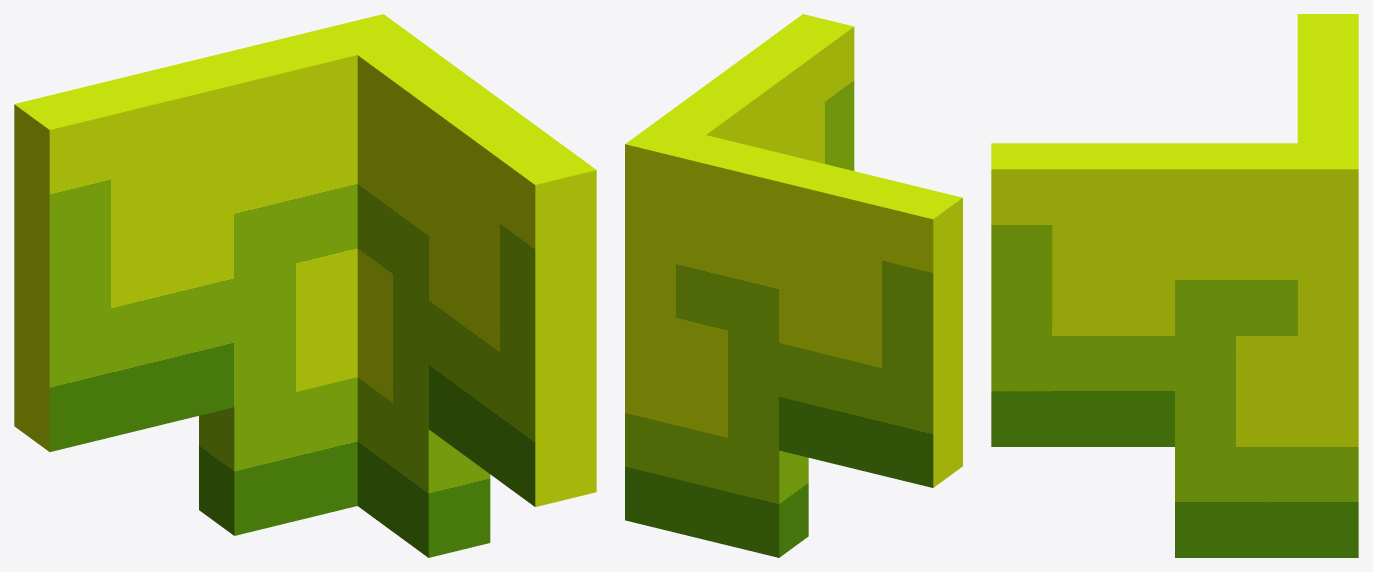
Rendered from ledge_aao.fezao.glb.
3 renders of one model, left to right at view 1: azimuth 30°, elevation 25°; view 2: azimuth 150°, elevation 25°; view 3: azimuth 270°, elevation 25°, orthographic. The views are drawn at different scales.
Parts seen in each view (by area): view 1: LEDGE_AAO; view 2: LEDGE_AAO; view 3: LEDGE_AAO.
Part boxes in pixels (x1=…): LEDGE_AAO: x1=14, y1=14, x2=596, y2=557; LEDGE_AAO: x1=625, y1=14, x2=962, y2=557; LEDGE_AAO: x1=991, y1=14, x2=1358, y2=557.
Size of the model in its own units: 0.375 by 0.4375 by 0.375.
Materials: 1 (1 with a texture image).
